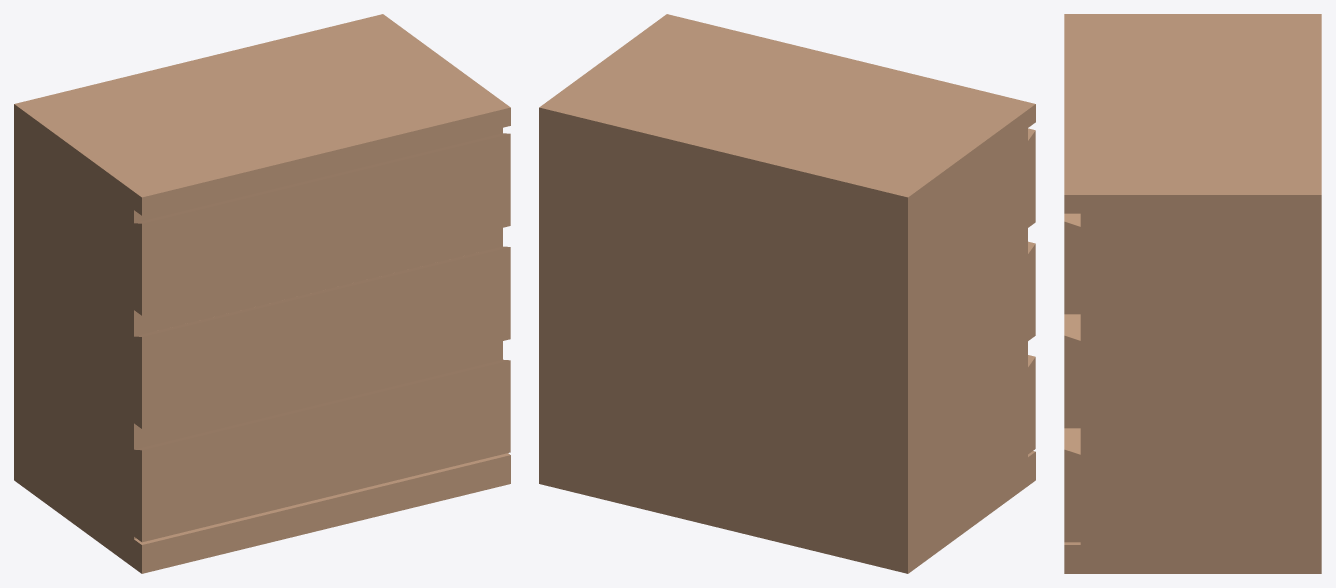
Rendered from Dresser.fbx.
3 renders of one model, left to right at view 1: azimuth 30°, elevation 25°; view 2: azimuth 150°, elevation 25°; view 3: azimuth 270°, elevation 25°, orthographic.
Visible parts, largest first — view 1: Dresser, Drawer_Middle, Drawer_Bottom.001, Drawer_Top; view 2: Dresser, Drawer_Bottom.001, Drawer_Middle, Drawer_Top; view 3: Dresser, Drawer_Bottom.001, Drawer_Middle, Drawer_Top.
Boxes of the visible parts, x1,y1,x2,y2 form: Dresser: (14, 14, 510, 573); Drawer_Middle: (134, 246, 510, 428); Drawer_Bottom.001: (134, 359, 510, 542); Drawer_Top: (134, 133, 510, 315); Dresser: (539, 14, 1035, 573); Drawer_Bottom.001: (1028, 355, 1035, 454); Drawer_Middle: (1028, 241, 1035, 340); Drawer_Top: (1028, 128, 1035, 227); Dresser: (1064, 14, 1321, 573); Drawer_Bottom.001: (1064, 428, 1080, 542); Drawer_Middle: (1064, 314, 1080, 428); Drawer_Top: (1064, 213, 1080, 314).
Size of the model in its own units: 0.8 by 0.7801 by 0.4798.
